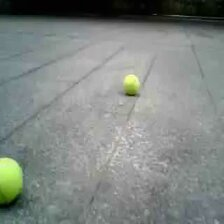tennis: (1, 156, 22, 205), (123, 74, 141, 92)
